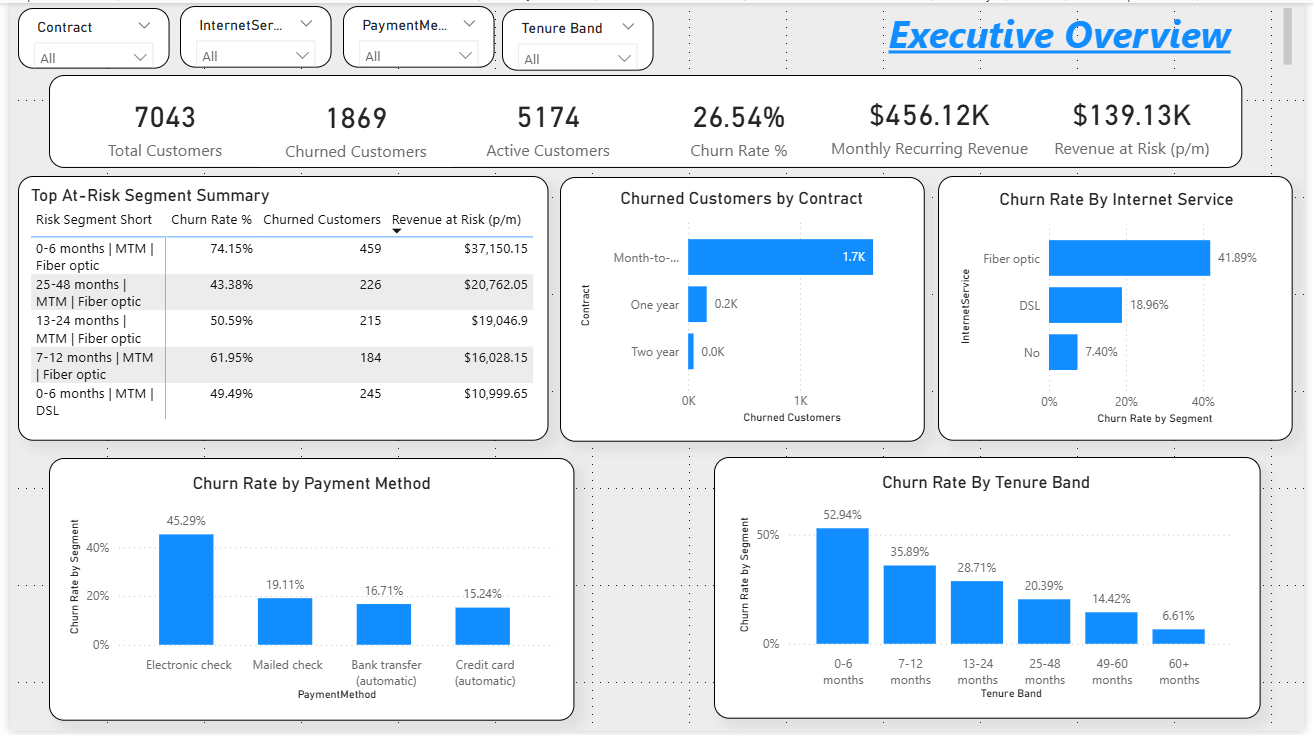

This screenshot's page, from the dashboard's own definition file:
{"tool":"powerbi","page":{"name":"Executive Overview","canvas":[1280,720],"ordinal":0},"visuals":[{"type":"shape","box":[39,71,1181,92],"z":0},{"type":"shape","box":[918.9,171.4,350.9,261.7],"z":1000},{"type":"shape","box":[544,172,361,262],"z":2000},{"type":"shape","box":[8,171,525,262],"z":3000},{"type":"shape","box":[696.3,449.3,540.6,259.4],"z":4000},{"type":"shape","box":[38.9,450.3,520,260],"z":5000},{"type":"card","fields":{"Values":["Telco.Total Customers"]},"box":[58.3,81.1,190,80],"z":6000},{"type":"card","fields":{"Values":["Telco.Churned Customers"]},"box":[247.5,81.7,190,80],"z":7000},{"type":"slicer","fields":{"Values":["Telco.Contract"]},"box":[7.6,4.9,150,60],"z":8000},{"type":"slicer","fields":{"Values":["Telco.InternetService"]},"box":[168.3,3.3,150.1,60.7],"z":9000},{"type":"slicer","fields":{"Values":["Telco.PaymentMethod"]},"box":[329.4,3.3,150.1,60.7],"z":10000},{"type":"slicer","fields":{"Values":["Telco.Tenure Band"]},"box":[487.2,5.5,150.1,60.7],"z":11000},{"type":"card","fields":{"Values":["Telco.Churn Rate %"]},"box":[626.3,81.1,190,80],"z":12000},{"type":"card","fields":{"Values":["Telco.Active Customers"]},"box":[437.7,81.1,190,80],"z":13000},{"type":"card","fields":{"Values":["Telco.Monthly Revenue"]},"box":[806,79,209,80],"z":14000},{"type":"card","fields":{"Values":["Telco.Revenue at Risk"]},"box":[1015,79,190,80],"z":15000},{"type":"pivotTable","title":"Top At-Risk Segment Summary","fields":{"Values":["Telco.Churn Rate %","Telco.Churned Customers","Telco.Revenue at Risk"],"Rows":["Telco.Risk Segment"]},"box":[16,180,509,244],"z":16000},{"type":"barChart","fields":{"Category":["Telco.Contract"],"Y":["Telco.Churned Customers"]},"box":[559,183,330,238],"z":17000},{"type":"barChart","title":"Churn Rate By Internet Service","fields":{"Category":["Telco.InternetService"],"Y":["Telco.Churn Rate by Segment"]},"box":[934.9,184,320,237.7],"z":18000},{"type":"clusteredColumnChart","title":"Churn Rate by Payment Method","fields":{"Category":["Telco.PaymentMethod"],"Y":["Telco.Churn Rate by Segment"]},"box":[53.7,465.1,490.3,230],"z":19000},{"type":"columnChart","title":"Churn Rate By Tenure Band","fields":{"Category":["Telco.Tenure Band"],"Y":["Telco.Churn Rate by Segment"]},"box":[717,464,499,230],"z":20000},{"type":"textbox","box":[812.6,0,460.6,70.9],"z":21000}]}

Visuals, with their boxes in screenshot pixels (x1, y1, x2, y2), scaled from the page's 1280x720 canvas onto the 1313x735 screenshot:
shape: pyautogui.locateOnScreen(40, 72, 1251, 166)
shape: pyautogui.locateOnScreen(943, 175, 1303, 442)
shape: pyautogui.locateOnScreen(558, 176, 928, 443)
shape: pyautogui.locateOnScreen(8, 175, 547, 442)
shape: pyautogui.locateOnScreen(714, 459, 1269, 723)
shape: pyautogui.locateOnScreen(40, 460, 573, 725)
card - Telco.Total Customers: pyautogui.locateOnScreen(60, 83, 255, 164)
card - Telco.Churned Customers: pyautogui.locateOnScreen(254, 83, 449, 165)
slicer - Telco.Contract: pyautogui.locateOnScreen(8, 5, 162, 66)
slicer - Telco.InternetService: pyautogui.locateOnScreen(173, 3, 327, 65)
slicer - Telco.PaymentMethod: pyautogui.locateOnScreen(338, 3, 492, 65)
slicer - Telco.Tenure Band: pyautogui.locateOnScreen(500, 6, 654, 68)
card - Telco.Churn Rate %: pyautogui.locateOnScreen(642, 83, 837, 164)
card - Telco.Active Customers: pyautogui.locateOnScreen(449, 83, 644, 164)
card - Telco.Monthly Revenue: pyautogui.locateOnScreen(827, 81, 1041, 162)
card - Telco.Revenue at Risk: pyautogui.locateOnScreen(1041, 81, 1236, 162)
"Top At-Risk Segment Summary" pivotTable: pyautogui.locateOnScreen(16, 184, 539, 433)
barChart - Telco.Contract x Telco.Churned Customers: pyautogui.locateOnScreen(573, 187, 912, 430)
"Churn Rate By Internet Service" barChart: pyautogui.locateOnScreen(959, 188, 1287, 430)
"Churn Rate by Payment Method" clusteredColumnChart: pyautogui.locateOnScreen(55, 475, 558, 710)
"Churn Rate By Tenure Band" columnChart: pyautogui.locateOnScreen(735, 474, 1247, 708)
textbox: pyautogui.locateOnScreen(834, 0, 1306, 72)
